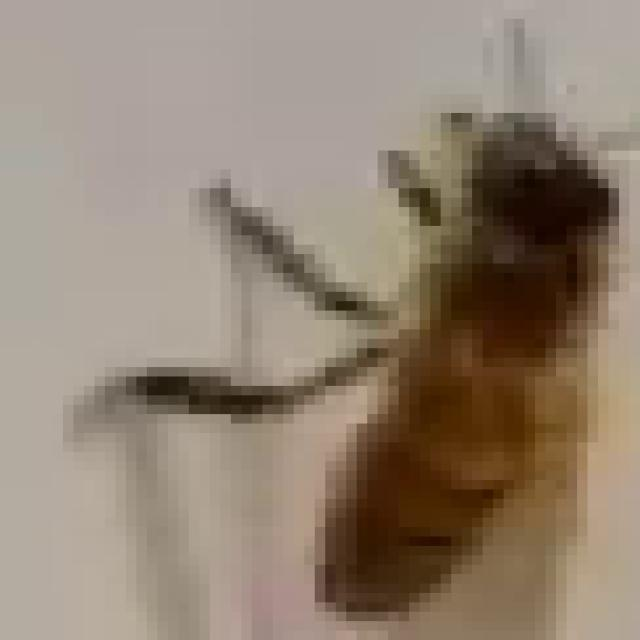honeybee: (182, 106, 611, 602)
